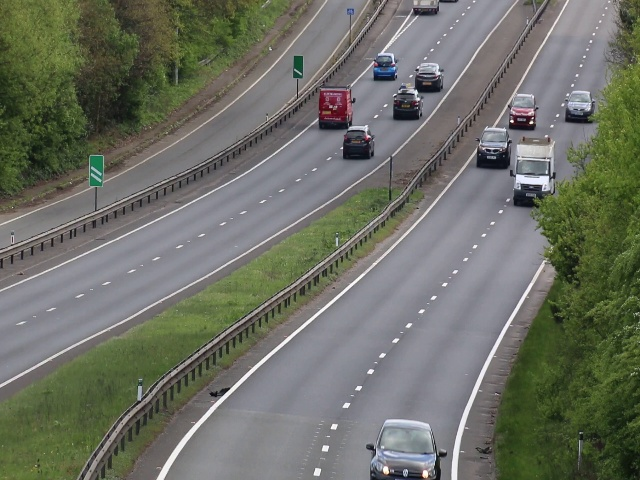car: (370, 420, 441, 480), (509, 136, 559, 208), (316, 83, 355, 129), (475, 125, 512, 168), (506, 91, 538, 131), (344, 123, 372, 162), (392, 86, 423, 119), (566, 88, 595, 122), (413, 63, 446, 90), (370, 52, 399, 81)
